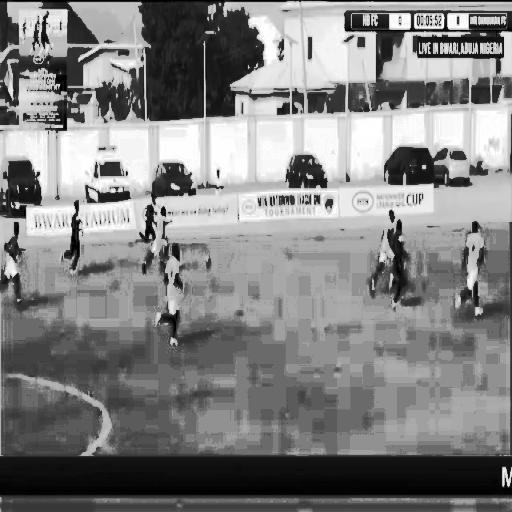ball: (202, 248, 215, 268)
team1: (453, 206, 490, 332), (153, 245, 190, 347), (0, 194, 31, 315), (370, 202, 394, 296), (152, 201, 170, 267)
team2: (64, 195, 88, 281), (392, 220, 409, 314), (142, 182, 156, 242)
